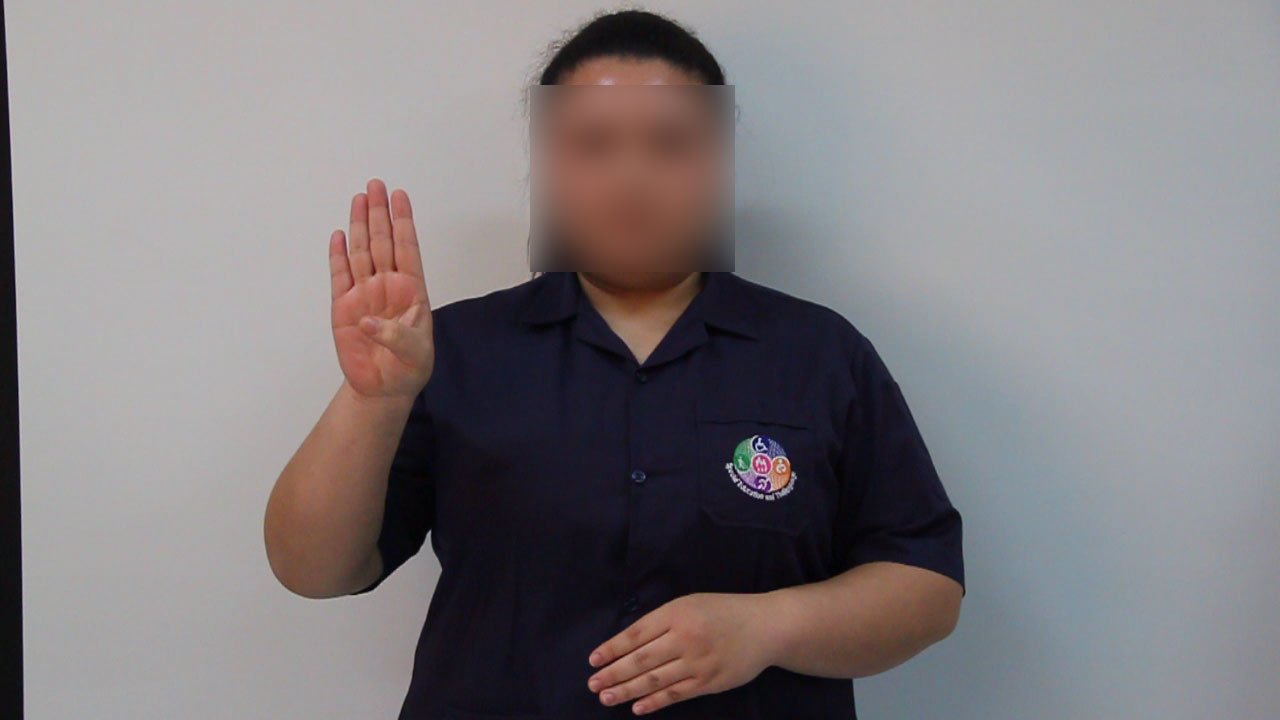bor: (320, 167, 453, 426)
